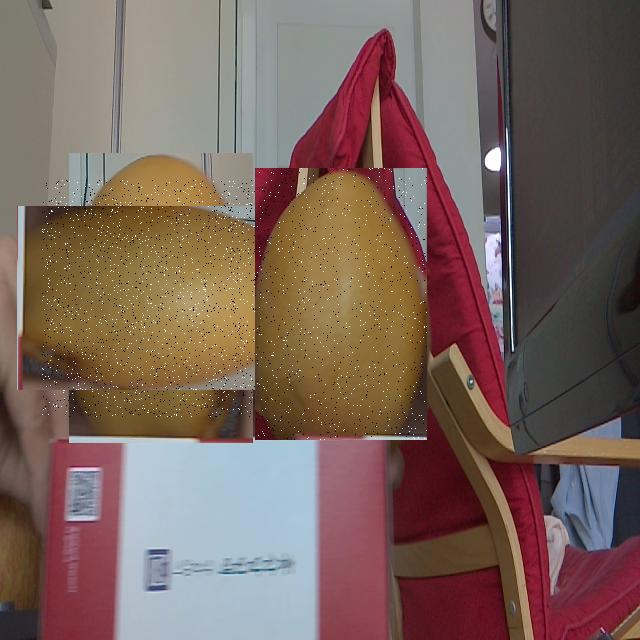pear: (42, 180, 280, 417), (255, 168, 427, 440)
